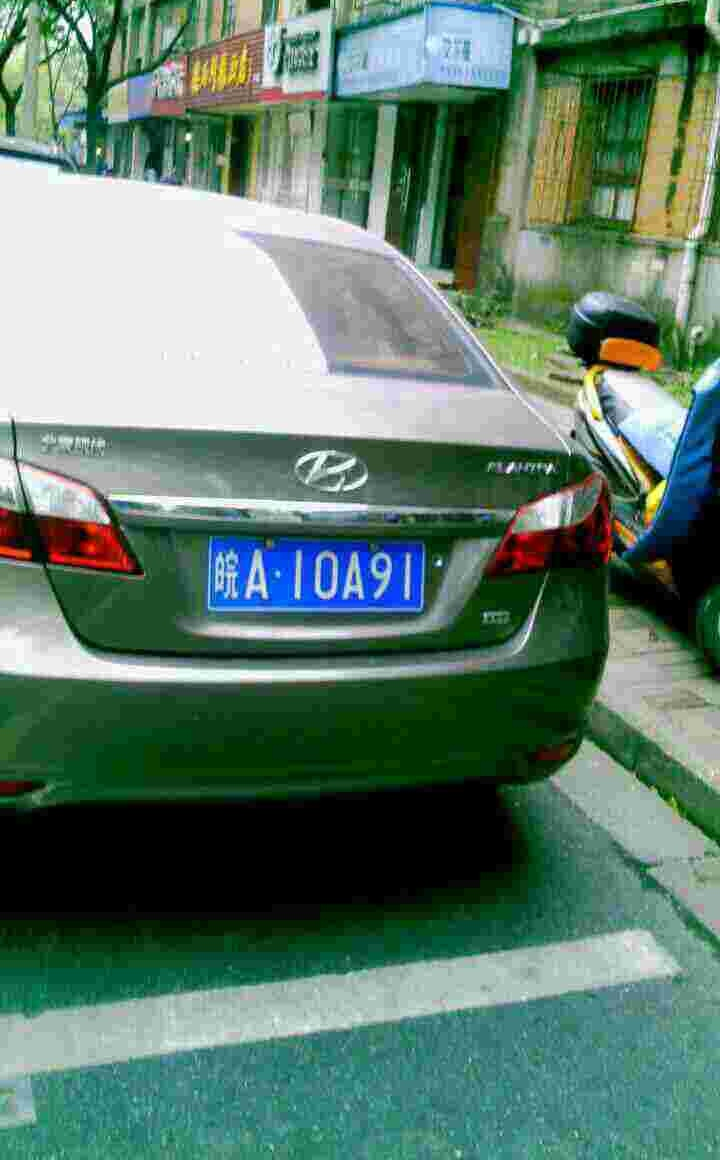license_plate: (213, 538, 432, 617)
